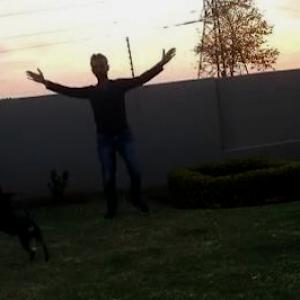takeoff: (42, 43, 203, 225)
